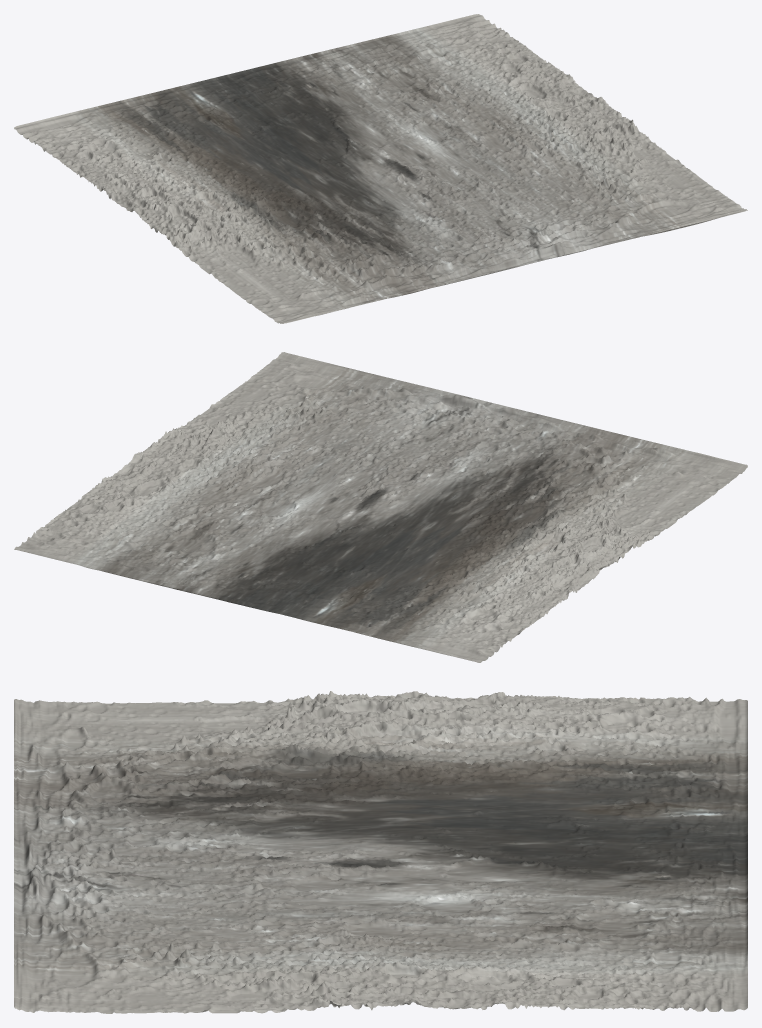
Rendered from SurfaceofTheMoon.glb.
3 renders of one model, top to bottom at view 1: azimuth 30°, elevation 25°; view 2: azimuth 150°, elevation 25°; view 3: azimuth 270°, elevation 25°, orthographic. The views are drawn at different scales.
Parts seen in each view (by area): view 1: Plane; view 2: Plane; view 3: Plane.
Part boxes in pixels (x1,y1,x2,y2): Plane: (14,14,747,323); Plane: (14,352,747,662); Plane: (14,691,747,1013).
Bounding box in the file's own units: 10 × 0.3476 × 10.
Materials: 1 (1 with a texture image).
